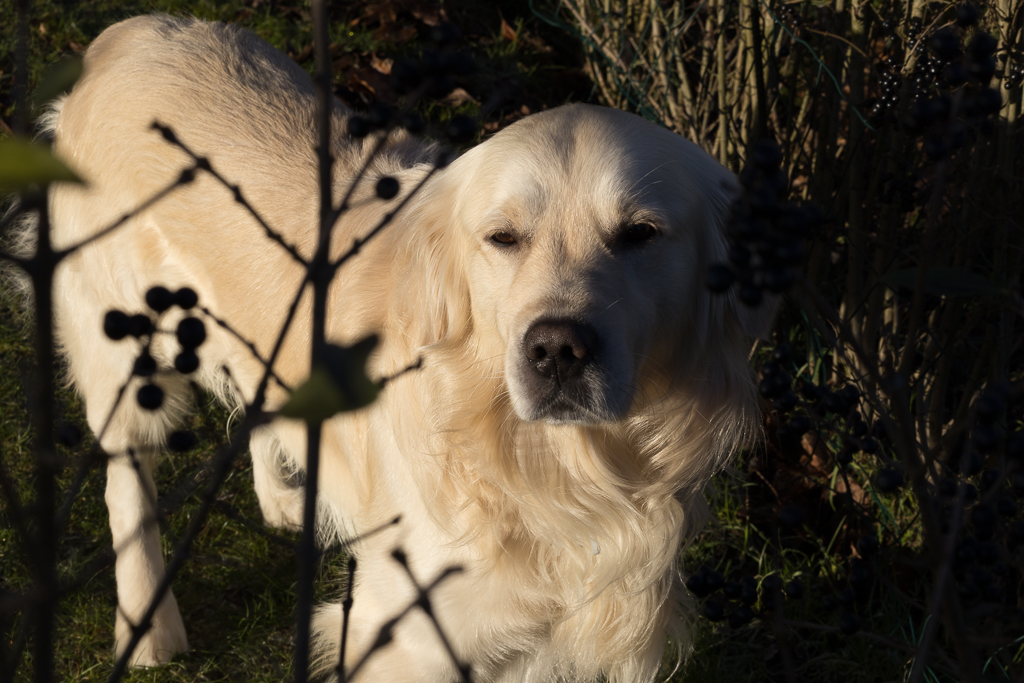Dog: (8, 5, 794, 683)
